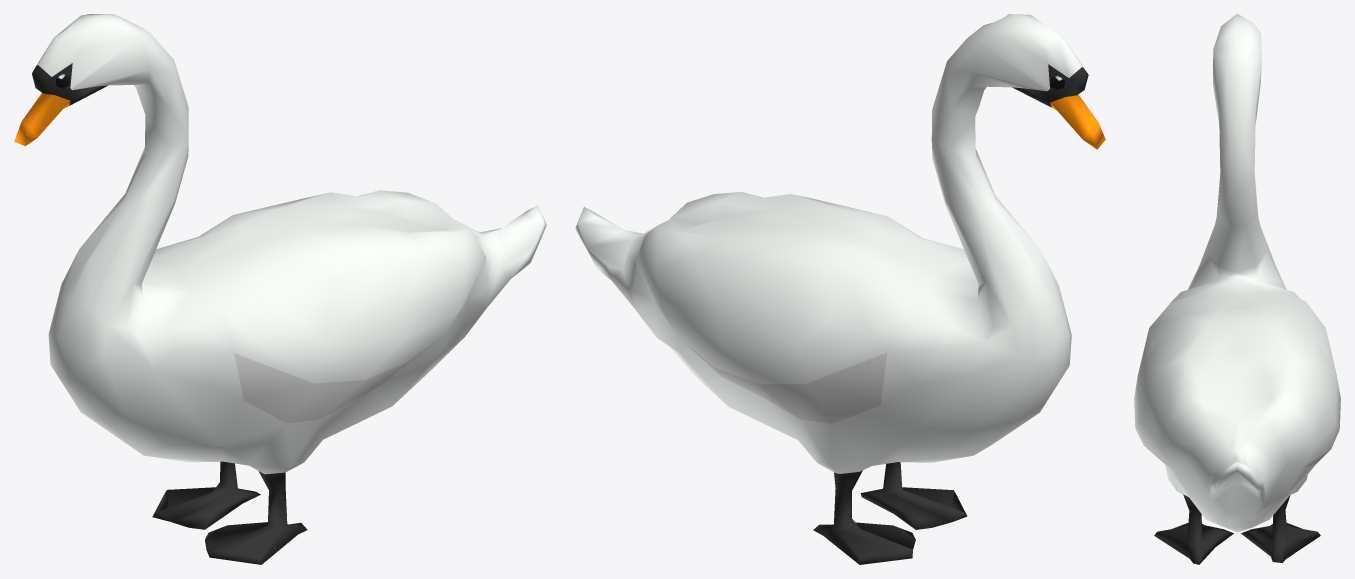
The model's file is Swan.glb.
3 renders of one model, left to right at view 1: azimuth 30°, elevation 25°; view 2: azimuth 150°, elevation 25°; view 3: azimuth 270°, elevation 25°, orthographic. The views are drawn at different scales.
Visible parts, largest first — view 1: Swan; view 2: Swan; view 3: Swan.
Boxes of the visible parts, bbox=[...] form: Swan: bbox=[14, 14, 546, 564]; Swan: bbox=[575, 14, 1105, 564]; Swan: bbox=[1134, 14, 1340, 564].
Size of what is drawn, in the model's own units: 1.04 by 1.03 by 0.4146.
Materials: 1 (1 with a texture image).
